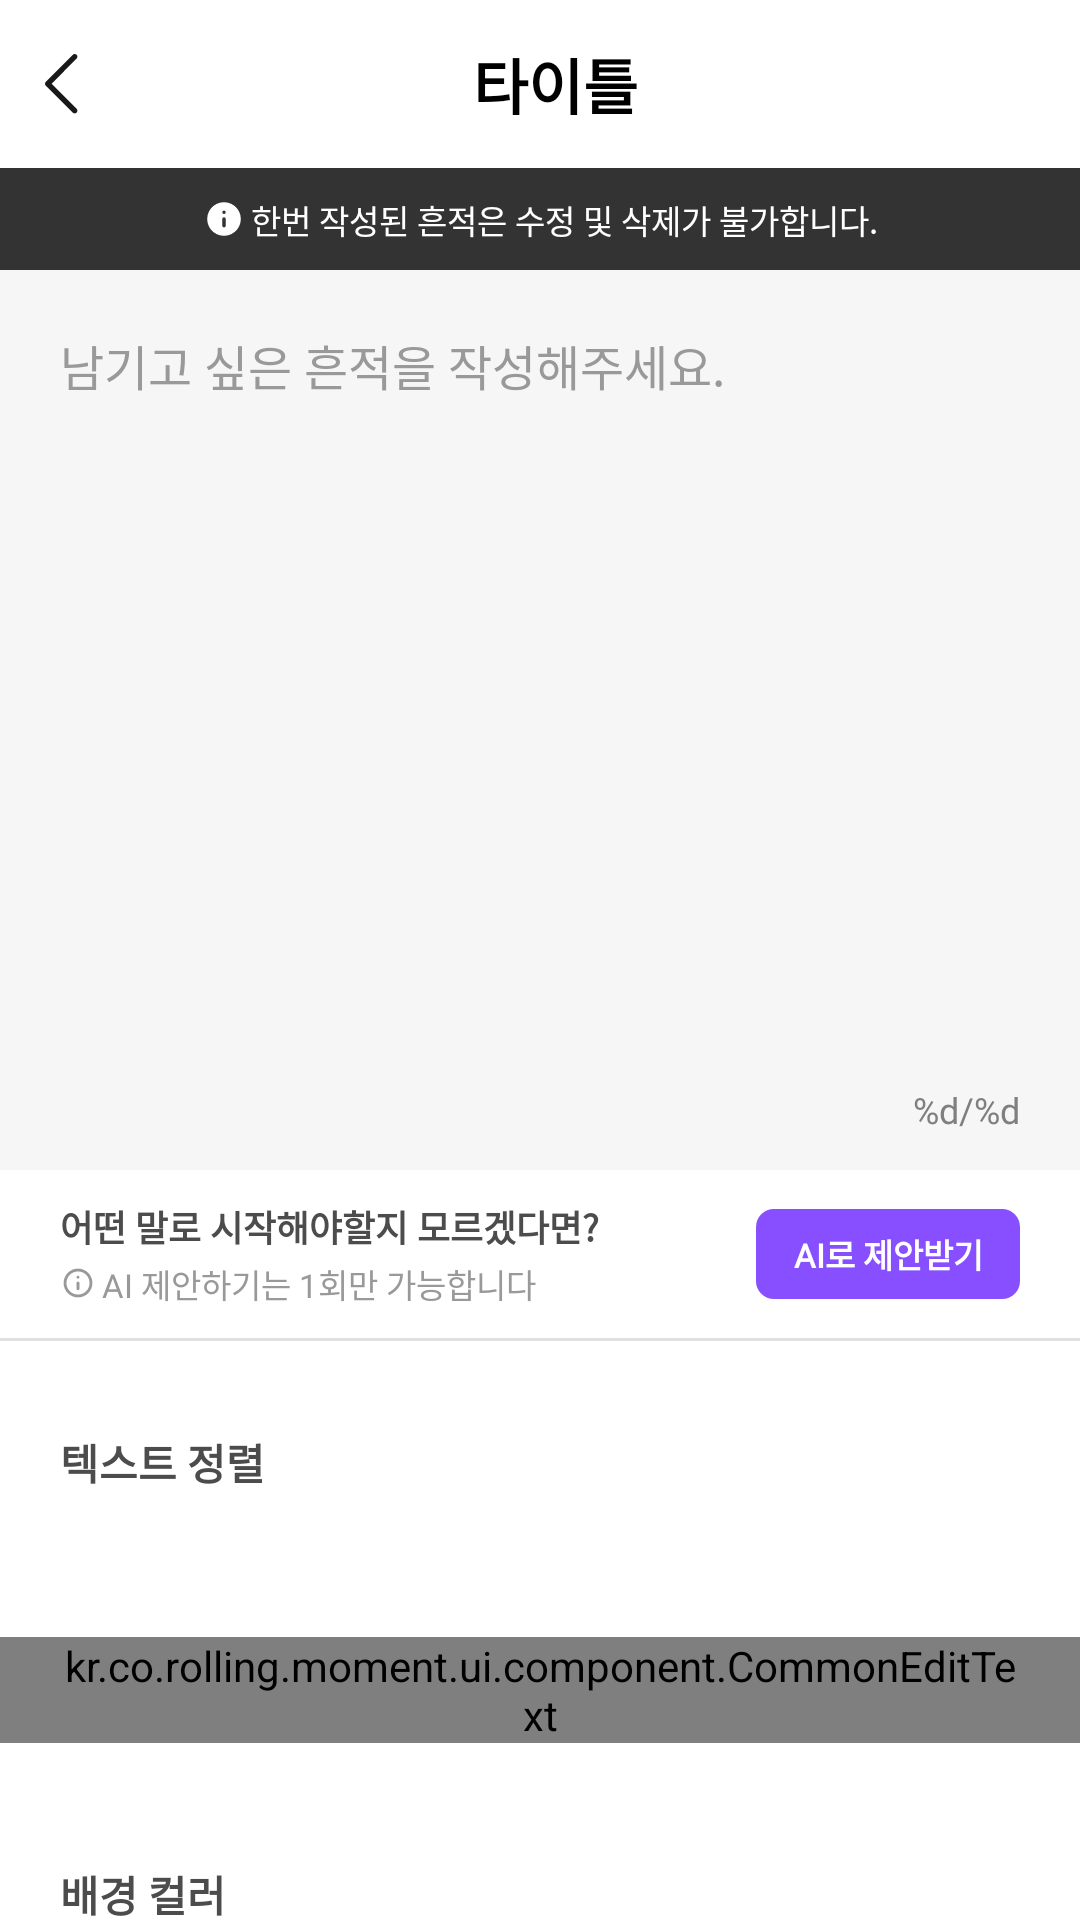

Icons on this 1080×1920 Android screen, each with the point to tap as point (x, y):
chevron left: point (61, 84)
